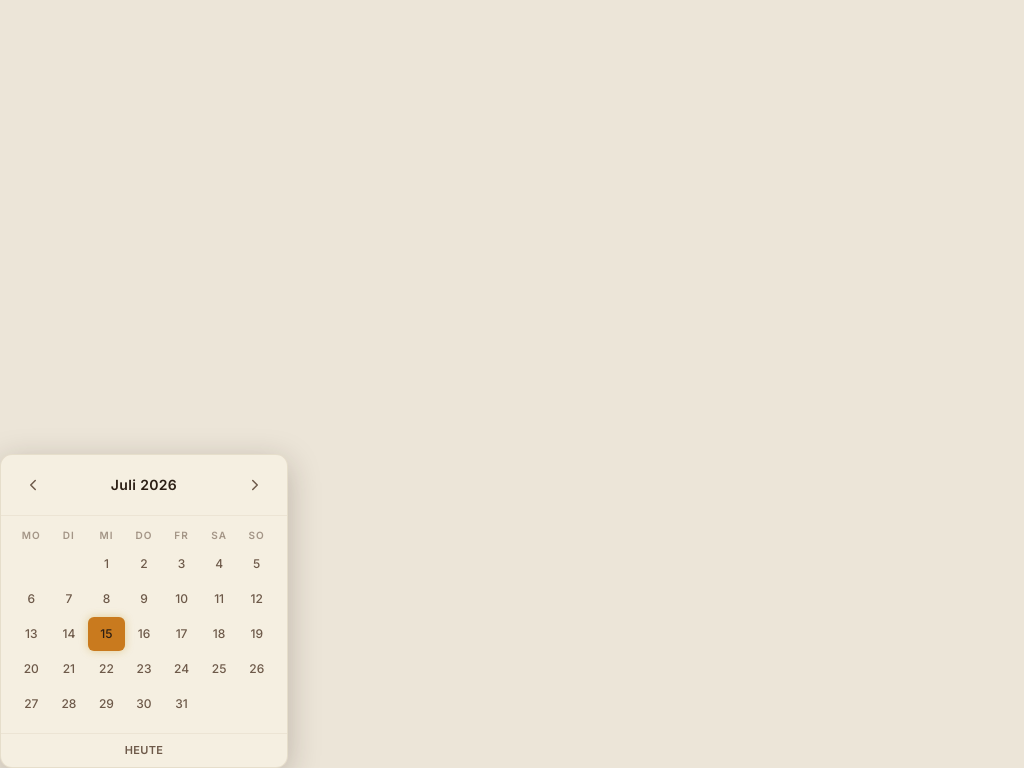
CalendarPopup › renders "Juni" in DE when navigating to June 2026
(page scrolled)
Click the button named "Vorheriger Monat" at (33, 485), box x1=13 y1=465 x2=53 y2=505
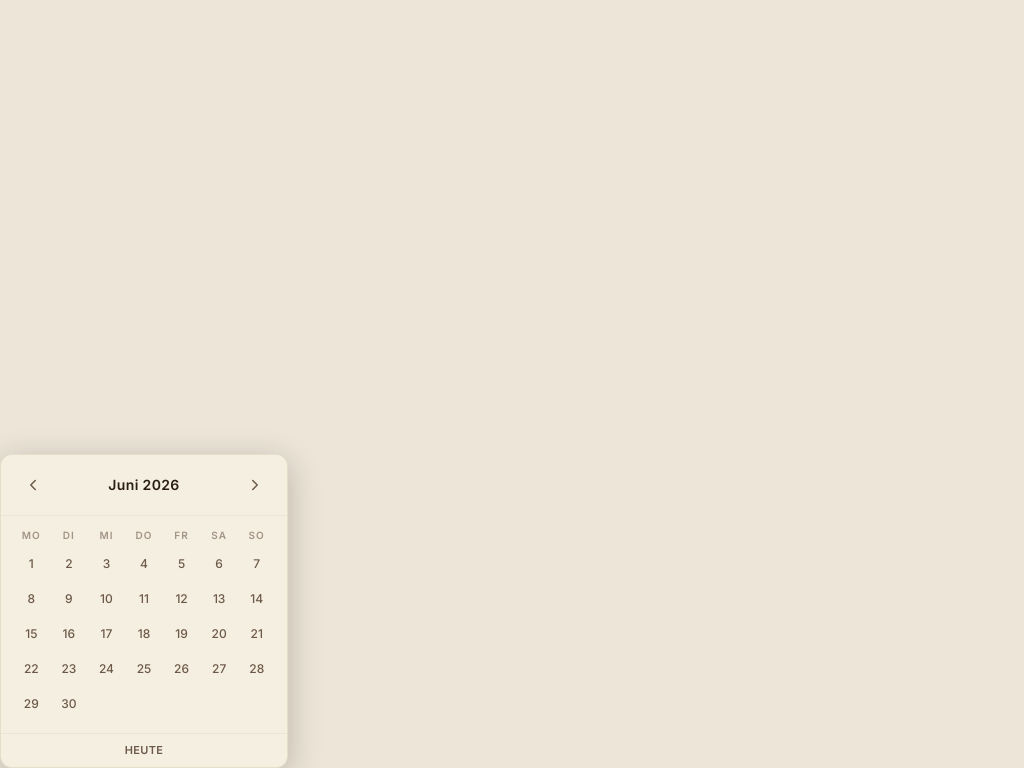
Now the text "Juni 2026" is shown, box x1=108 y1=475 x2=180 y2=495
